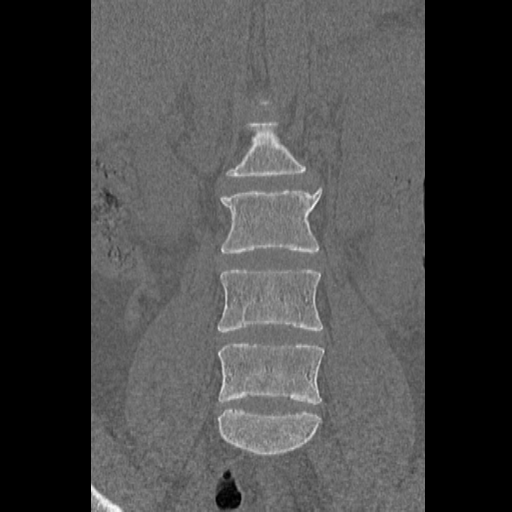bone: (214, 266, 324, 334), (223, 187, 324, 256), (218, 340, 324, 405), (216, 408, 323, 457), (227, 121, 307, 174), (90, 485, 122, 512)
